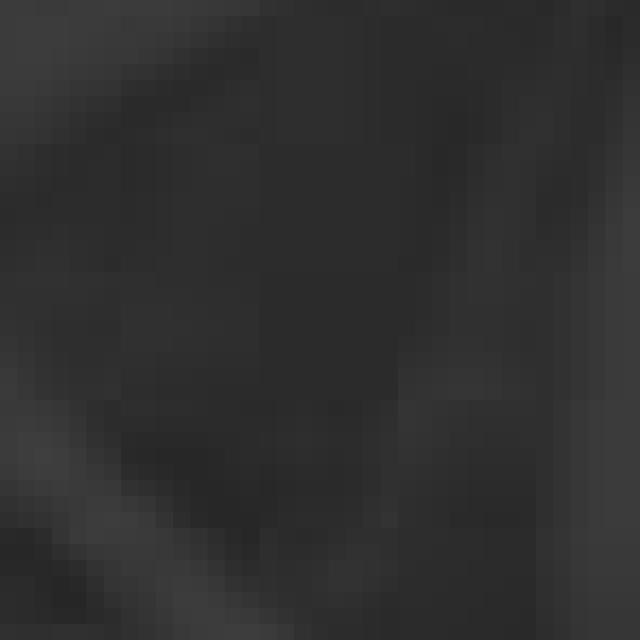fracture: (6, 2, 640, 637)
